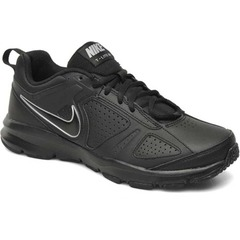nike: (19, 95, 83, 139)
